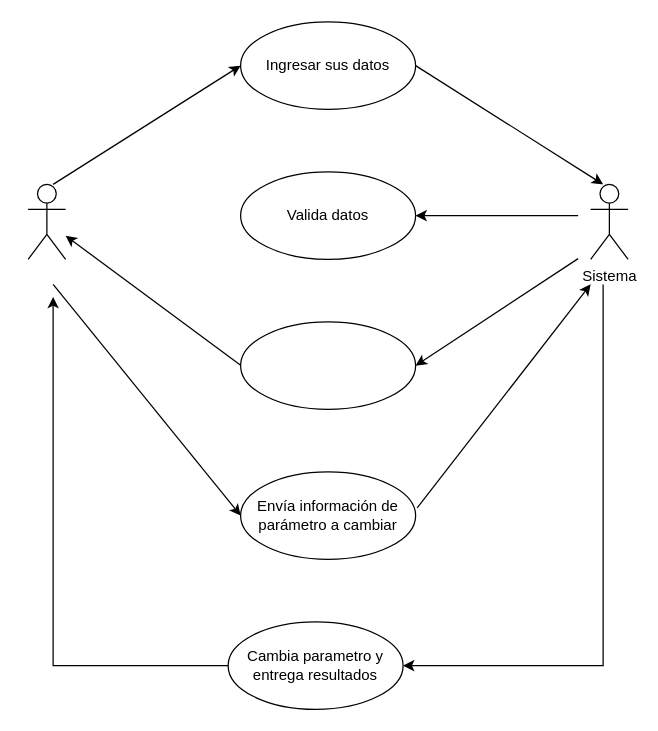
Image size: 658x731. Some labels were removed from this diagram. The centre of each missing label's shape, as x and y in pixels:
Concede permisos: pixel 327 365
Usuario: pixel 46 221
